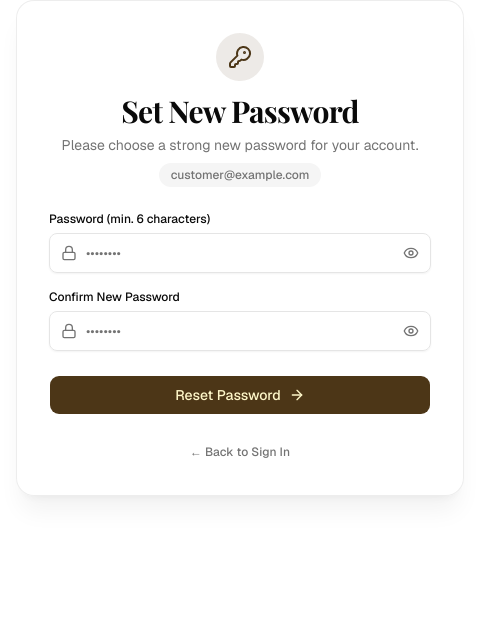
it: ResetPasswordForm › displays error message when resetPasswordAction returns error
Step 1. Type "newSecretPassword123" into the password field labelled "Password (min. 6 characters)" → (240, 253), box 49,233 -> 431,273
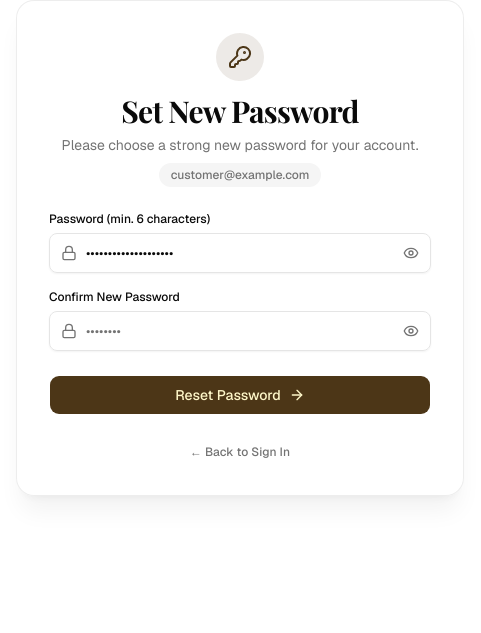
Step 2. Type "newSecretPassword123" into the password field labelled "Confirm New Password" → (240, 331), box 49,311 -> 431,351
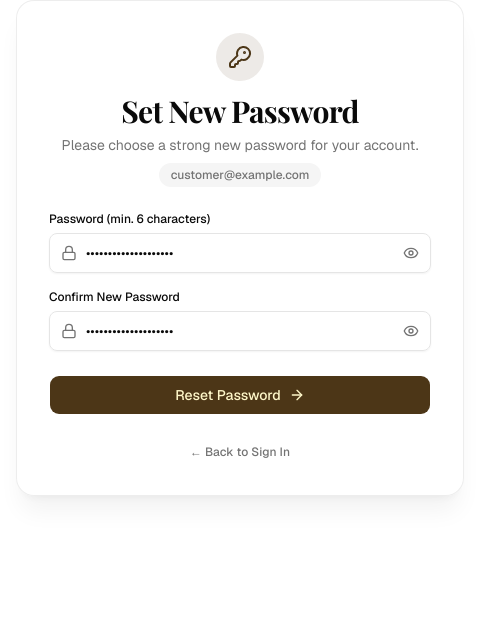
Step 3. Click the button "Reset Password" → (240, 395), box 49,375 -> 431,415
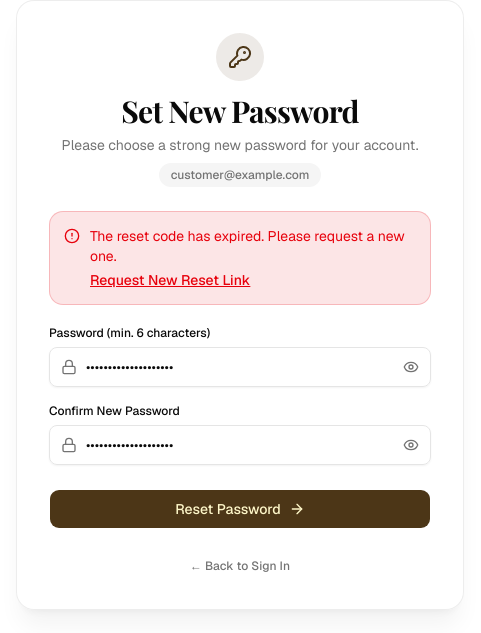
Result: the text "The reset code has expired. Please request a new one." is shown at 90,226 -> 416,266
